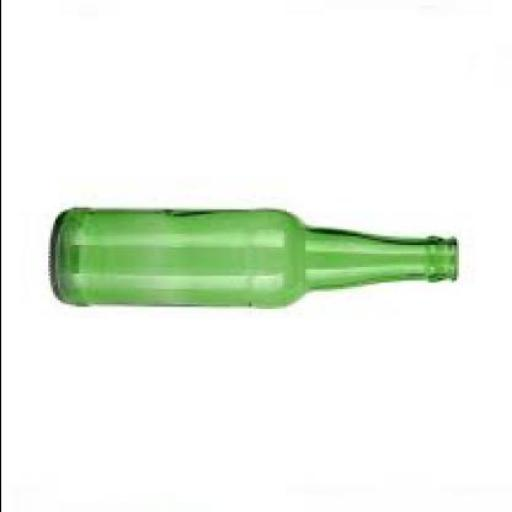glass: (52, 208, 460, 304)
